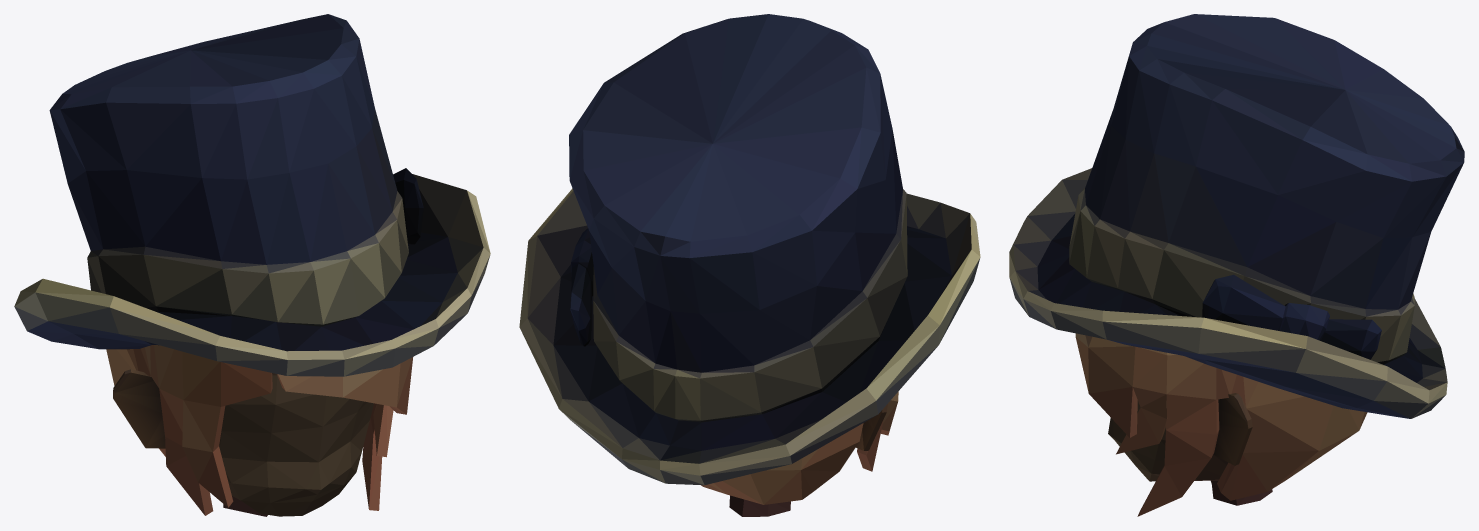
Rendered from helm_darkskin_ponytail_blonde_tophat.fbx.
The picture shows the model from 3 angles, left to right: view 1: azimuth 30°, elevation 25°; view 2: azimuth 150°, elevation 25°; view 3: azimuth 270°, elevation 25°; orthographic projection. The views are drawn at different scales.
Parts seen in each view (by area): view 1: helm_darkskin_ponytail_blonde_tophat; view 2: helm_darkskin_ponytail_blonde_tophat; view 3: helm_darkskin_ponytail_blonde_tophat.
Part boxes in pixels (x1=…): helm_darkskin_ponytail_blonde_tophat: x1=14, y1=14, x2=490, y2=516; helm_darkskin_ponytail_blonde_tophat: x1=519, y1=14, x2=980, y2=516; helm_darkskin_ponytail_blonde_tophat: x1=1009, y1=14, x2=1464, y2=516.
Size of the model in its own units: 1.67 by 1.86 by 1.69.
